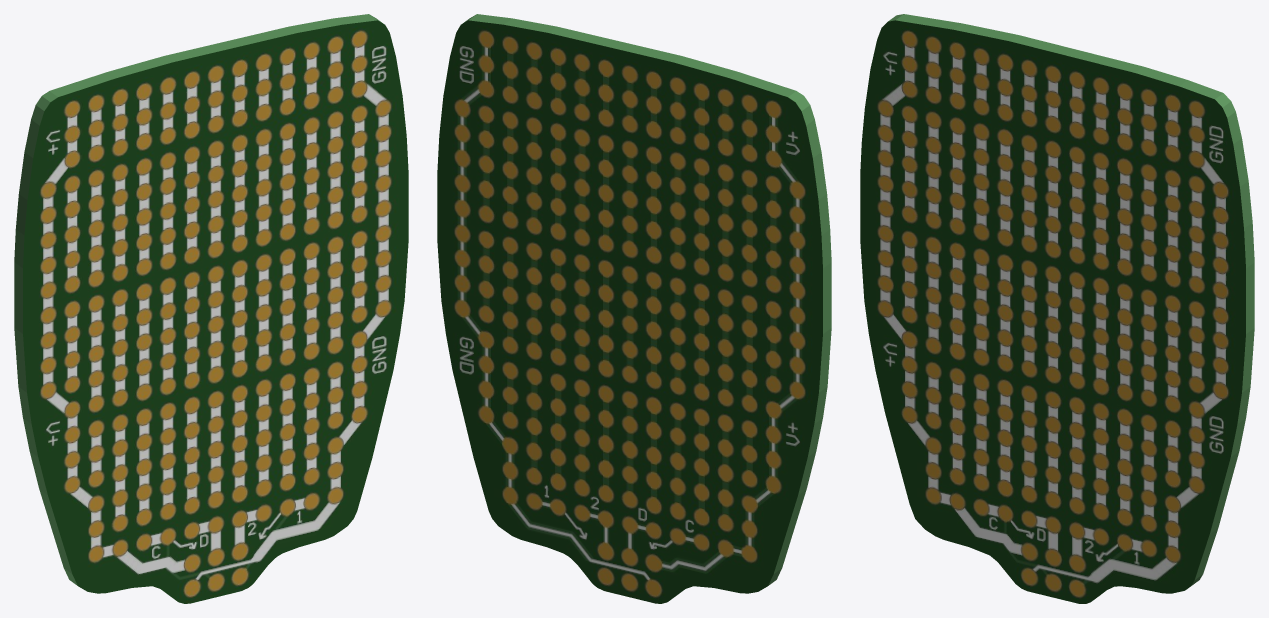
File: supercon-8-pure-proto-petal.glb
3 views of the same model, side by side, from view 1: azimuth 30°, elevation 25°; view 2: azimuth 150°, elevation 25°; view 3: azimuth 330°, elevation 25° (orthographic).
Visible parts, largest first — view 1: faces, edges; view 2: faces, edges; view 3: faces, edges.
Part boxes in pixels (x1,y1,x2,y2): faces: (23, 20, 408, 603); edges: (14, 14, 383, 589); faces: (437, 20, 822, 603); edges: (462, 14, 831, 589); faces: (860, 20, 1245, 603); edges: (888, 14, 1254, 599).
Bounding box in the file's own units: 0.041 × 0.0553 × 0.0016.
Materials: 2 (1 with a texture image).
